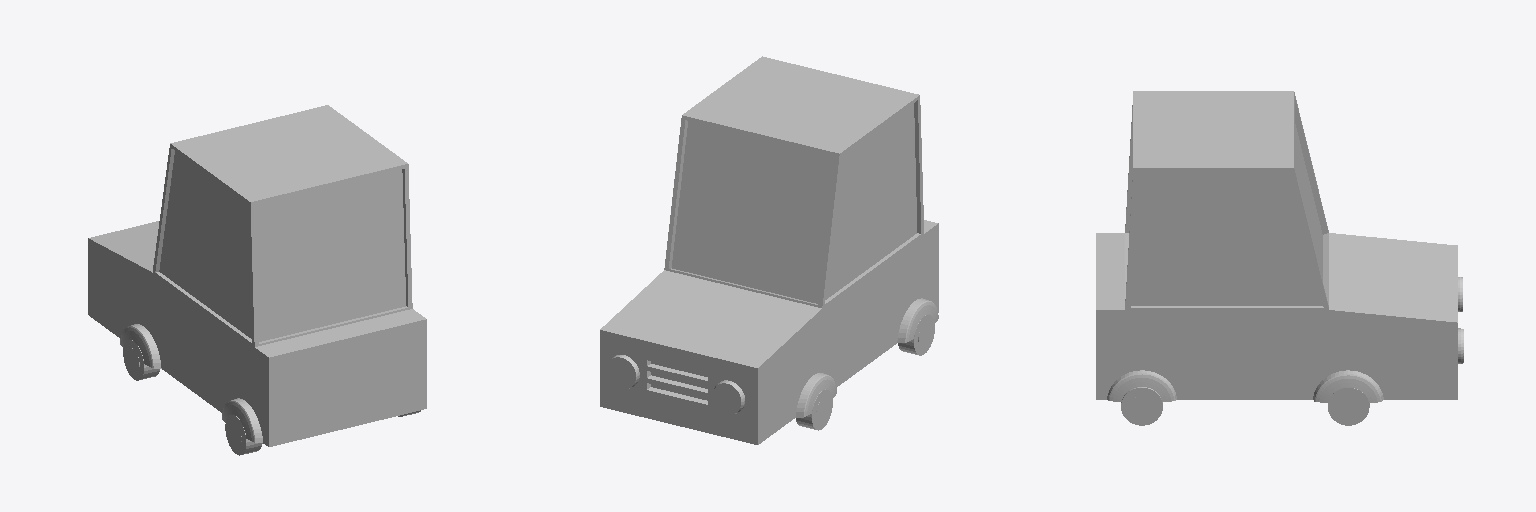
File: mini_car.obj
The picture shows the model from 3 angles: view 1: azimuth 30°, elevation 25°; view 2: azimuth 150°, elevation 25°; view 3: azimuth 270°, elevation 25°; orthographic projection.
Parts seen in each view (by area): view 1: Cubo.002-0, Cubo.002-1, Cubo.001_Cubo.004, Cubo.003_Cubo.005, Cilindro.003, Cilindro.002; view 2: Cubo.002-0, Cubo.002-1, Cubo.002-3, Cubo.001_Cubo.004, Cubo.003_Cubo.005, Cubo.002-6, Cilindro.002, Cilindro.003; view 3: Cubo.002-0, Cubo.002-1, Cubo.000_Cubo.003, Cubo.002-2, Cilindro.001, Cilindro.
Part boxes in pixels (x1,y1,x2,y2): Cubo.002-0: (88,105,426,446); Cubo.002-1: (159,151,405,341); Cubo.001_Cubo.004: (120,324,161,368); Cubo.003_Cubo.005: (222,398,262,442); Cilindro.003: (225,415,262,455); Cilindro.002: (123,340,159,380); Cubo.002-0: (600,56,938,444); Cubo.002-1: (672,103,916,303); Cubo.002-3: (607,355,744,413); Cubo.001_Cubo.004: (796,373,836,417); Cubo.003_Cubo.005: (897,298,938,342); Cubo.002-6: (647,360,707,404); Cilindro.002: (796,389,832,430); Cilindro.003: (898,315,934,355); Cubo.002-0: (1096,91,1457,399); Cubo.002-1: (1131,124,1322,305); Cubo.000_Cubo.003: (1313,370,1383,402); Cubo.002-2: (1107,370,1176,401); Cilindro.001: (1121,387,1162,425); Cilindro: (1328,388,1369,425).
Bounding box in the file's own units: 3.3 × 4.52 × 5.93.